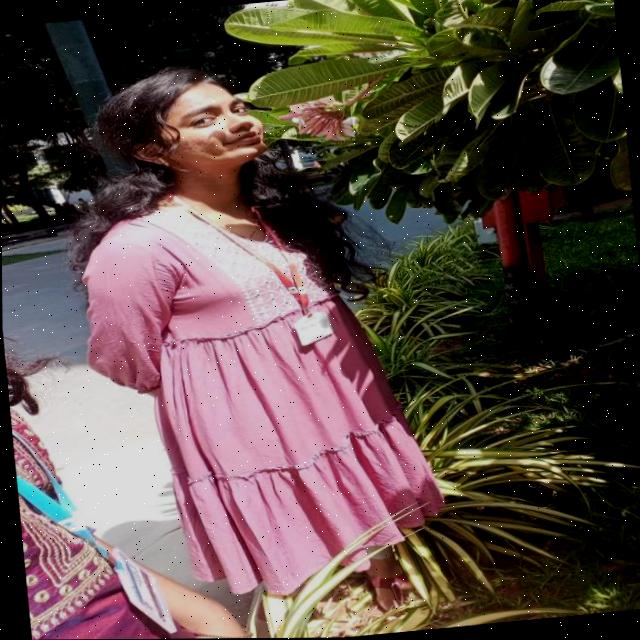id_card: (197, 185, 338, 362)
